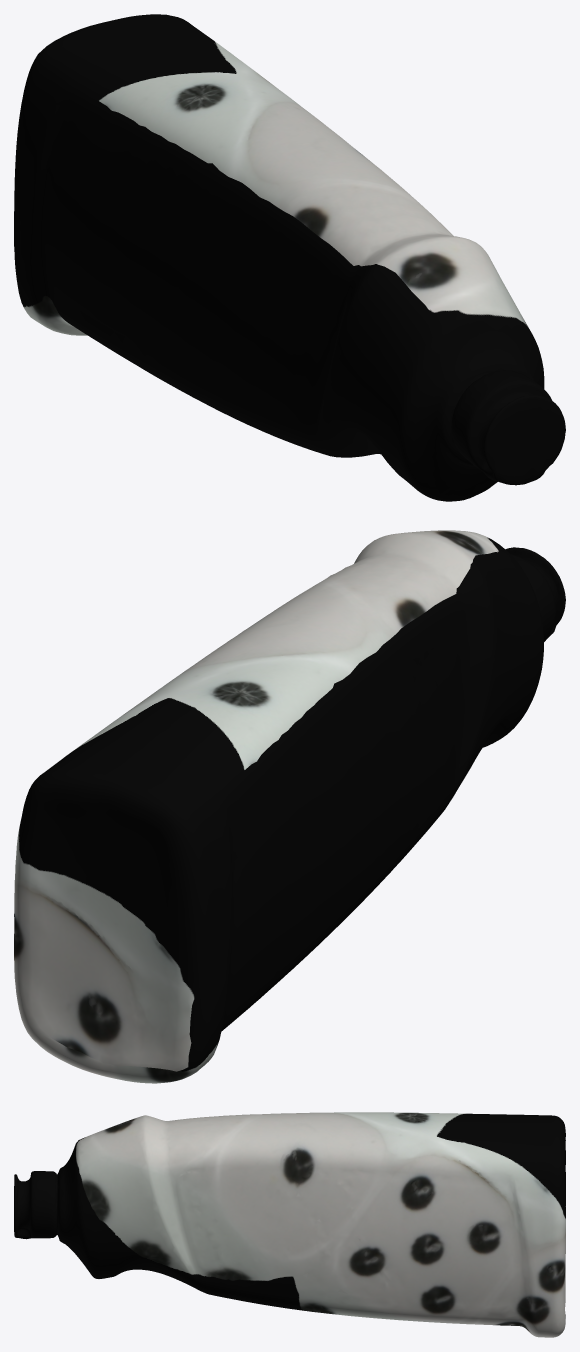
3 views of the same model, one above another, from view 1: azimuth 30°, elevation 25°; view 2: azimuth 150°, elevation 25°; view 3: azimuth 270°, elevation 25° (orthographic). The views are drawn at different scales.
Visible parts, largest first — view 1: textured.019; view 2: textured.019; view 3: textured.019.
Part boxes in pixels (x1,y1,x2,y2): textured.019: (14, 14, 565, 501); textured.019: (14, 530, 565, 1083); textured.019: (14, 1112, 565, 1337).
Bounding box in the file's own units: 0.0677 × 0.1024 × 0.2506.
